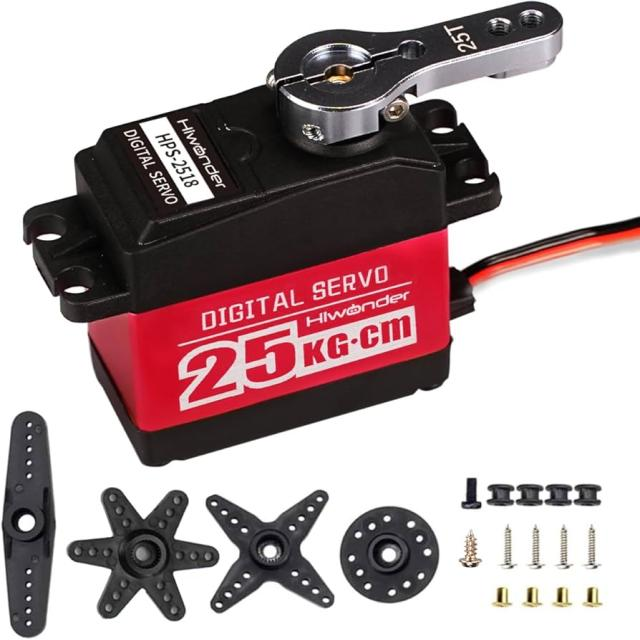servomotor: (36, 53, 550, 429)
